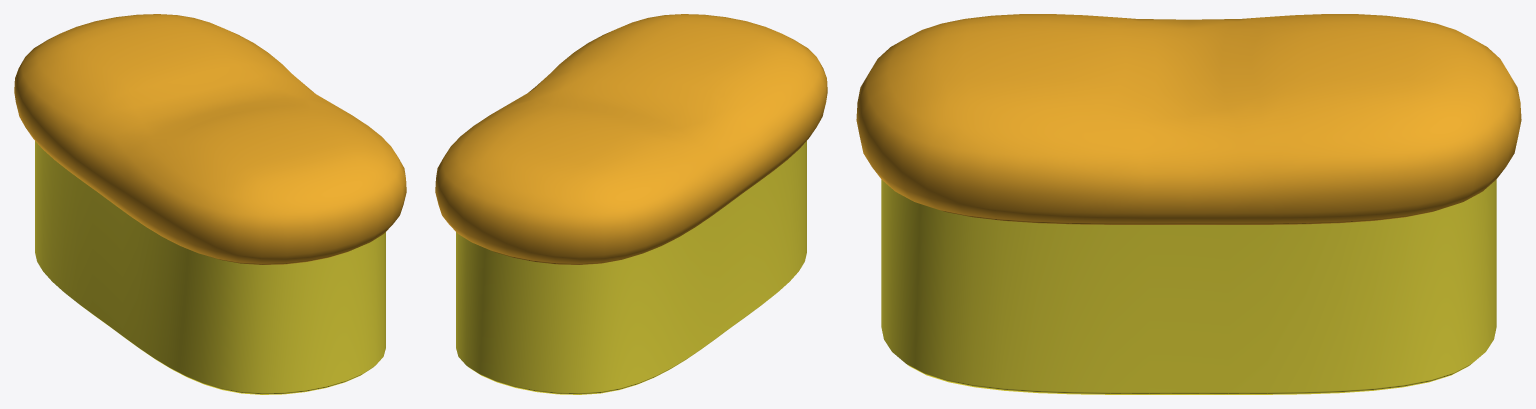
The model's file is Bread_2.fbx.
3 views of the same model, side by side, from view 1: azimuth 30°, elevation 25°; view 2: azimuth 150°, elevation 25°; view 3: azimuth 270°, elevation 25° (orthographic). The views are drawn at different scales.
Parts seen in each view (by area): view 1: Bread_2; view 2: Bread_2; view 3: Bread_2.
Part boxes in pixels (bbox=[...]): Bread_2: bbox=[14, 14, 406, 394]; Bread_2: bbox=[435, 14, 827, 394]; Bread_2: bbox=[856, 14, 1521, 394].
Size of the model in its own units: 18.09 by 15.49 by 33.63.
